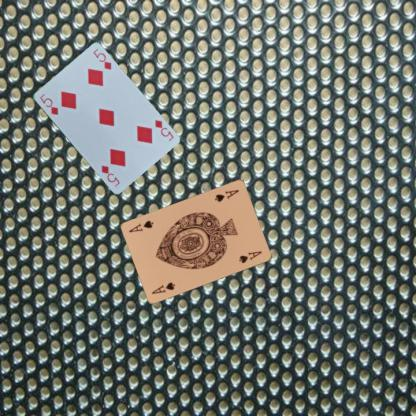5d: (37, 91, 59, 116), (152, 117, 174, 142)
As: (212, 186, 240, 202), (149, 279, 176, 295)
